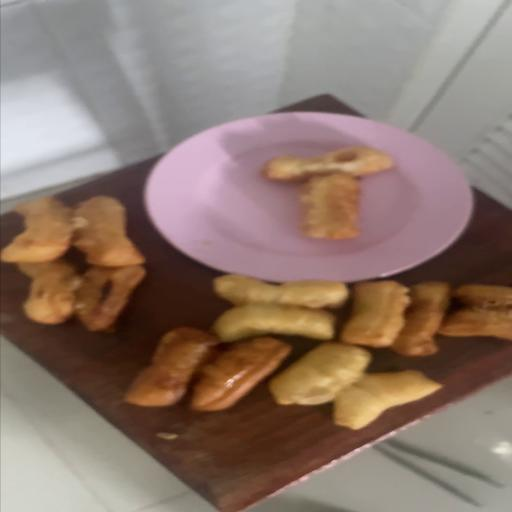street_burnt_defect: (10, 262, 145, 331)
street_golden_good: (112, 274, 468, 428), (210, 274, 511, 428)
